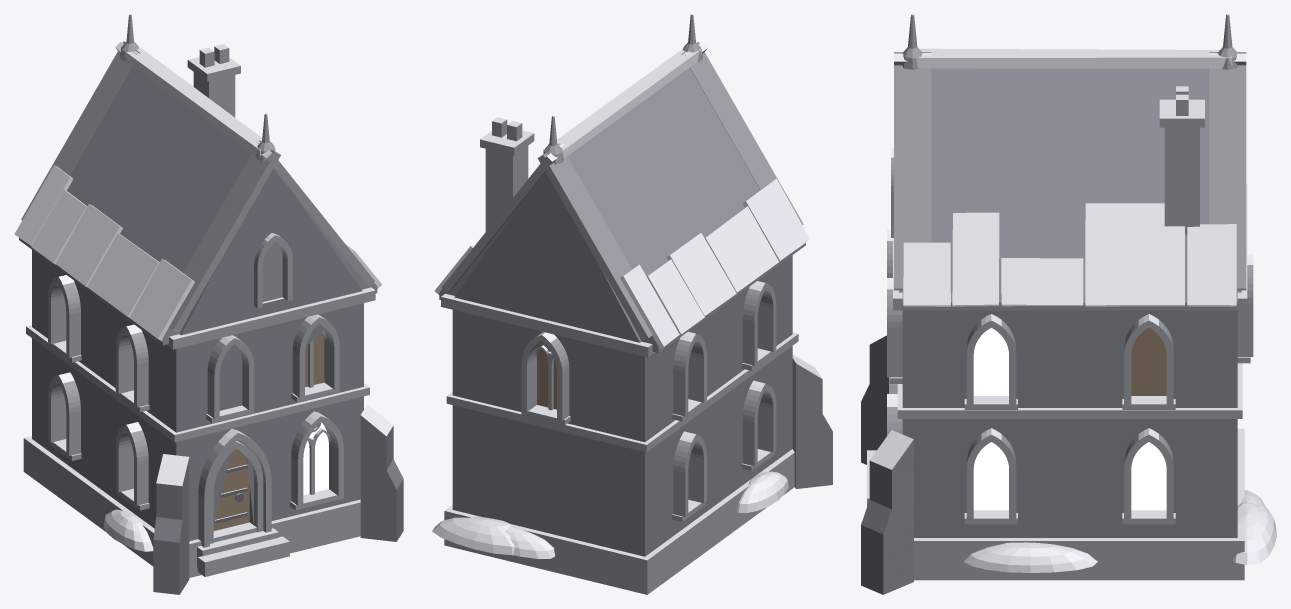
The model's file is AR_Casa_Empena.fbx.
3 renders of one model, left to right at view 1: azimuth 30°, elevation 25°; view 2: azimuth 150°, elevation 25°; view 3: azimuth 270°, elevation 25°, orthographic. The views are drawn at different scales.
Parts seen in each view (by area): view 1: AR_Casa_Empena; view 2: AR_Casa_Empena; view 3: AR_Casa_Empena.
Boxes of the visible parts, box(x1,y1,x2,y2) form: AR_Casa_Empena: box(14, 14, 403, 594); AR_Casa_Empena: box(432, 14, 832, 594); AR_Casa_Empena: box(861, 14, 1276, 594).
Size of the model in its own units: 8.52 by 14.27 by 10.56.
